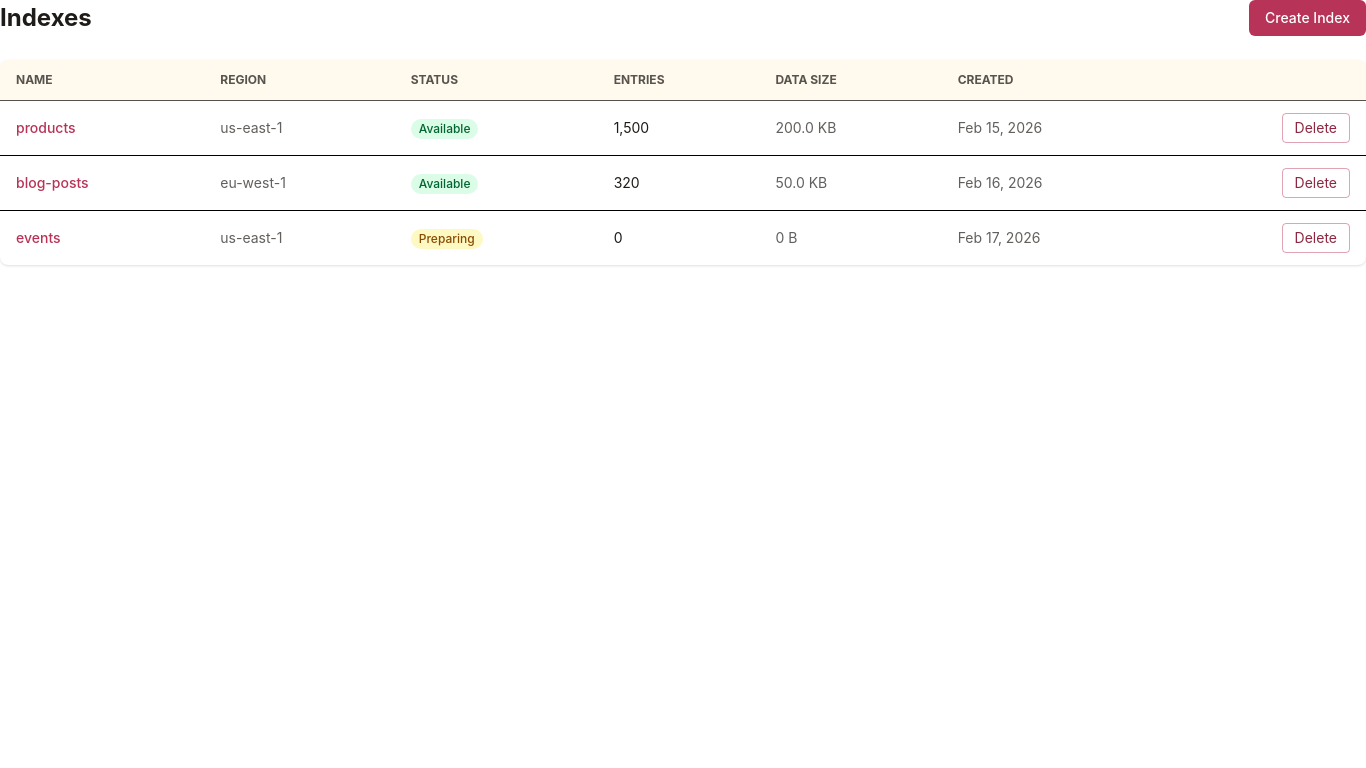
Test: Index list page › create button opens create form
Click the button "Create Index": x=1308, y=18 [1249,0,1365,36]
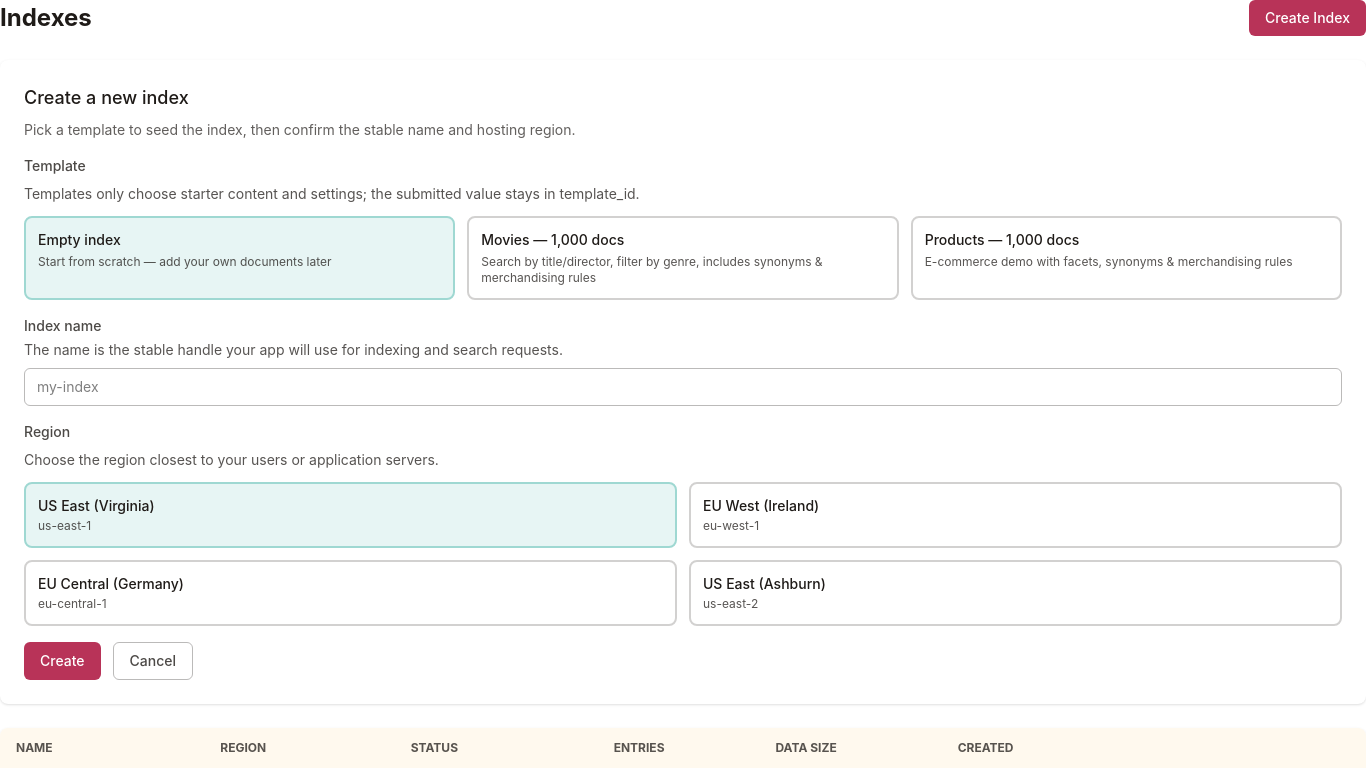
Check: the heading "Create a new index" is shown, box [24,87,189,108]
Check: the field labelled "Index name" is shown, box [24,368,1342,406]
Check: the radio button with aria-label "Empty index" is shown, box [24,216,455,300]
Click the button "Cancel": x=153, y=661 [113,642,193,680]
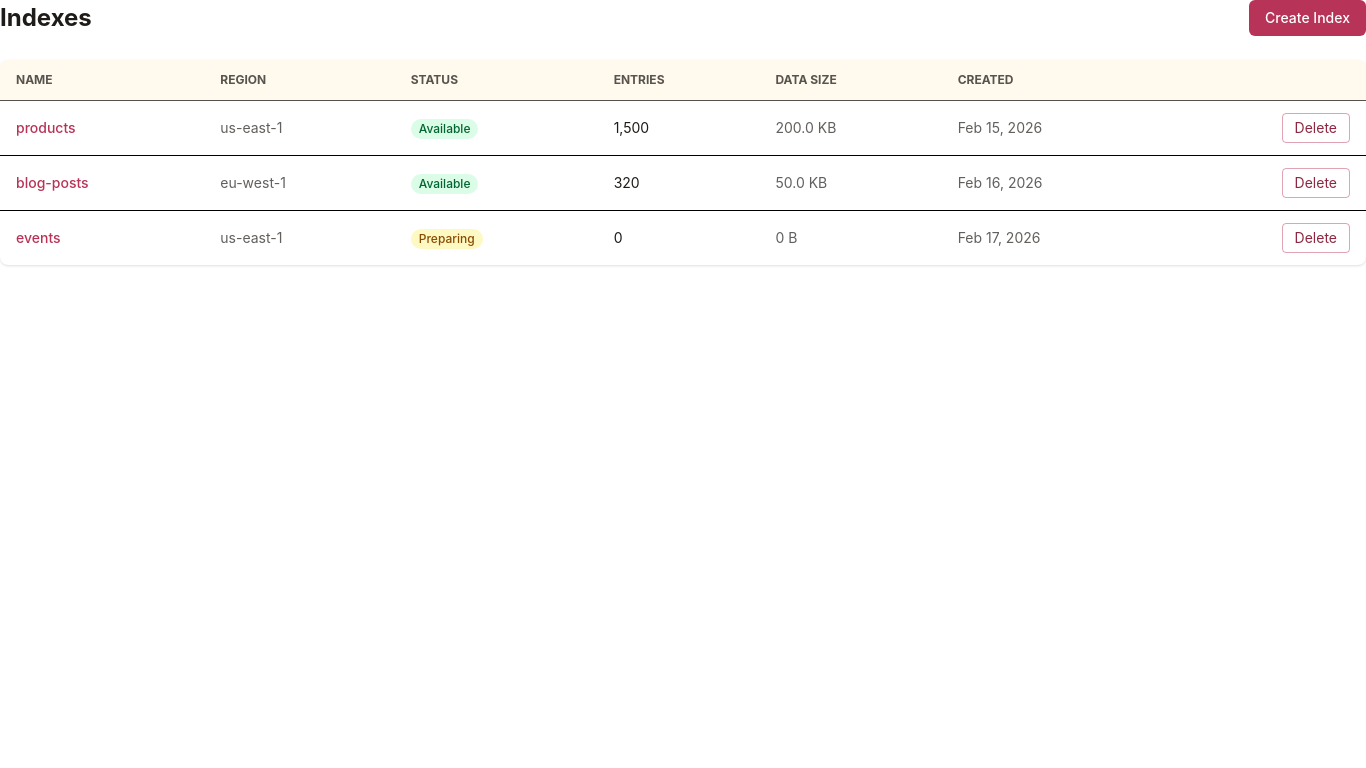
Check: the element with test id "create-index-form" is gone
